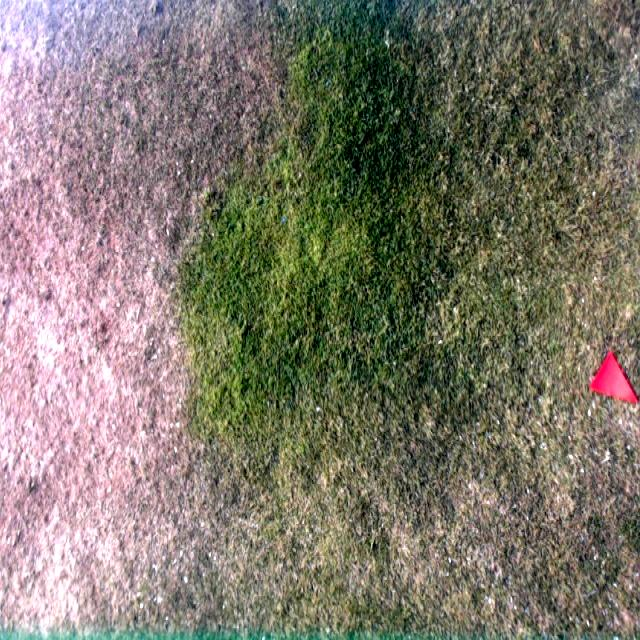red_triangle: (591, 353, 639, 407)
